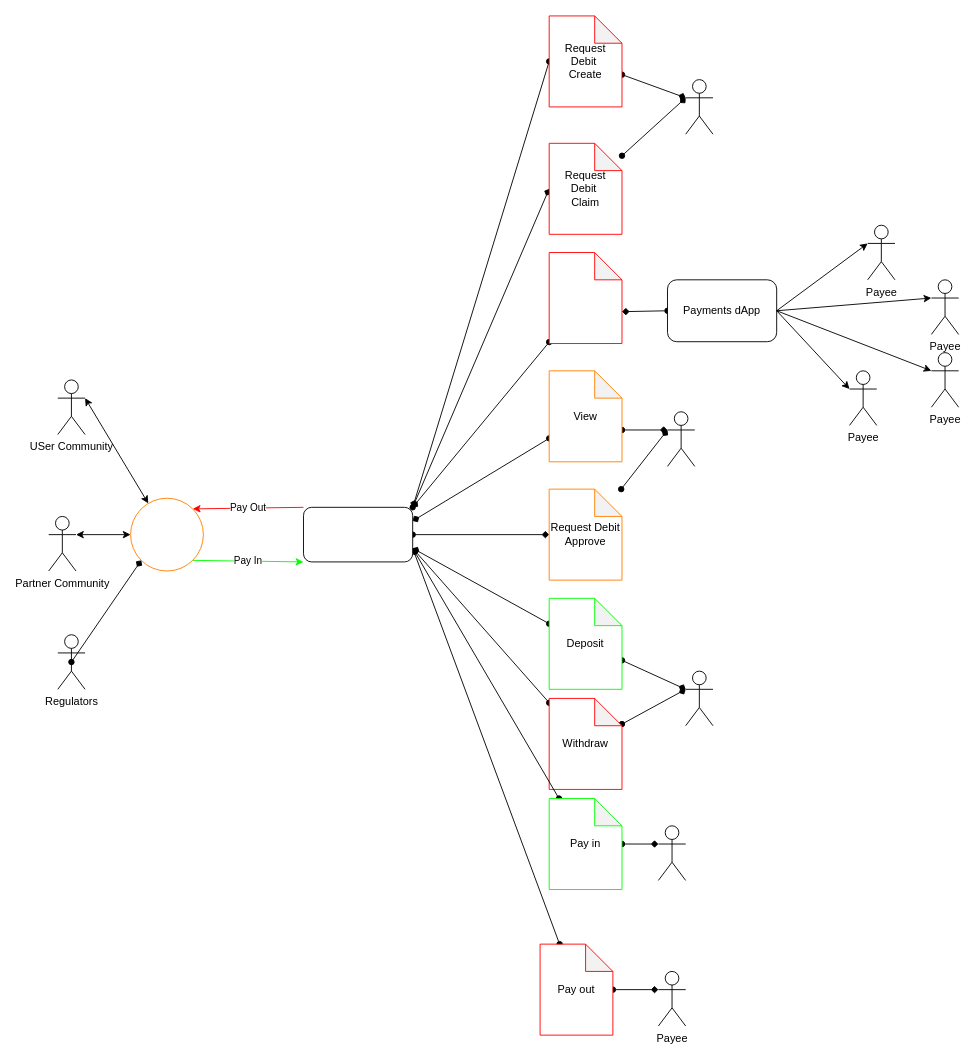
Image size: 976x1061. Some labels were removed from this diagram. Each missing label, with the centre of its shape:
"Bank Admin" belongs at pixel 681 438.
"dApp" belongs at pixel 166 534.
"Nominee" belongs at pixel 699 698.
"Open Bank" belongs at pixel 358 534.
"Pay Out Multi" belongs at pixel 585 298.
"Payer" belongs at pixel 671 852.
"Request Debitor" belongs at pixel 699 106.
